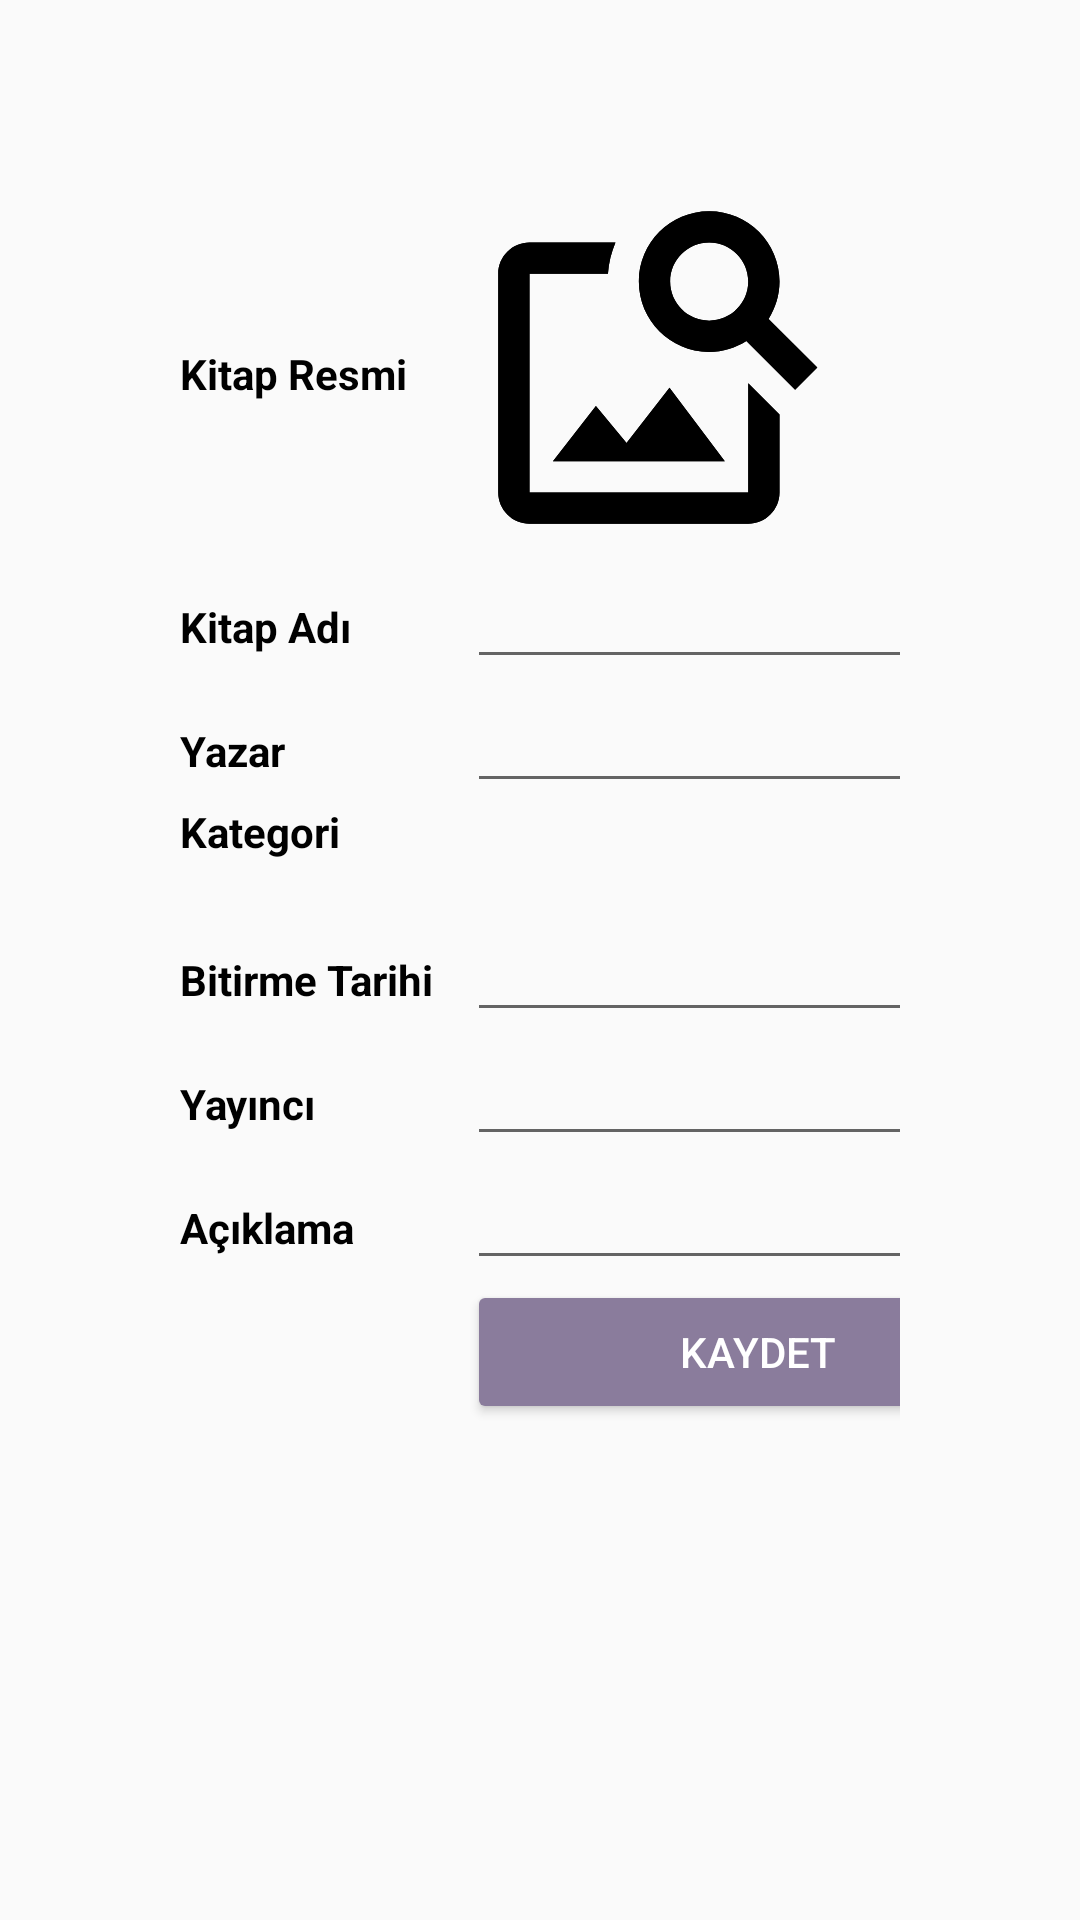

Named icons in this screenshot (1080px x 1920px) and their centers, [x,y]:
search: [658,367]
